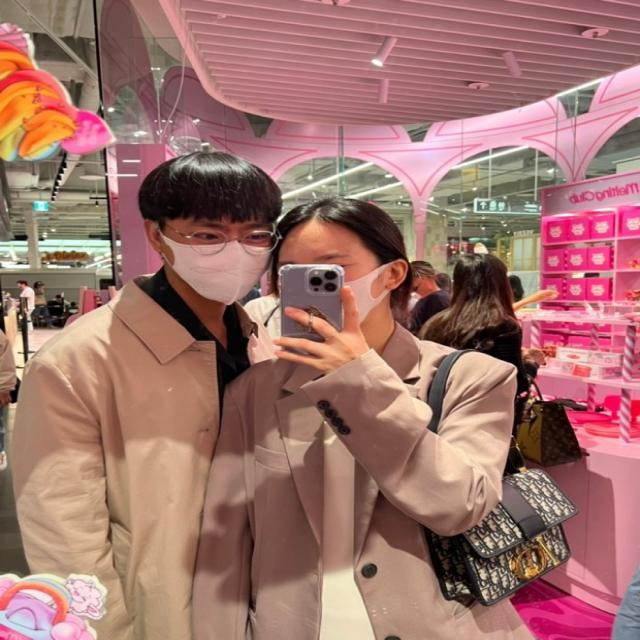phone: (278, 264, 344, 362)
